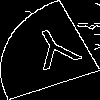Y: (24, 24, 87, 80)
